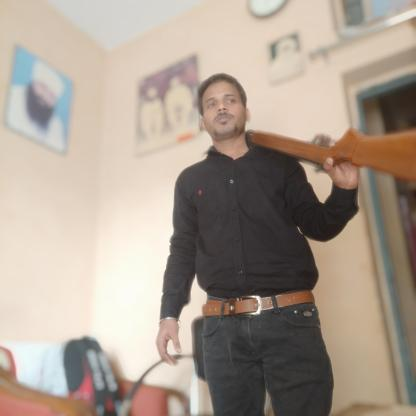rifle: (244, 124, 416, 185)
